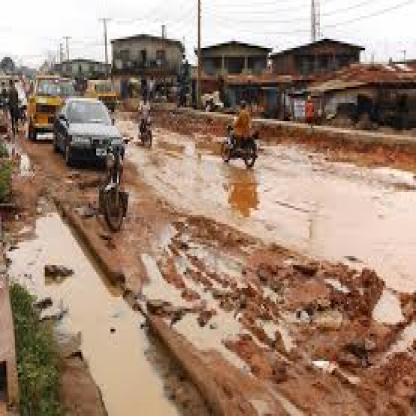car: (54, 92, 131, 176), (25, 70, 83, 148), (216, 97, 263, 167), (83, 69, 122, 116)
